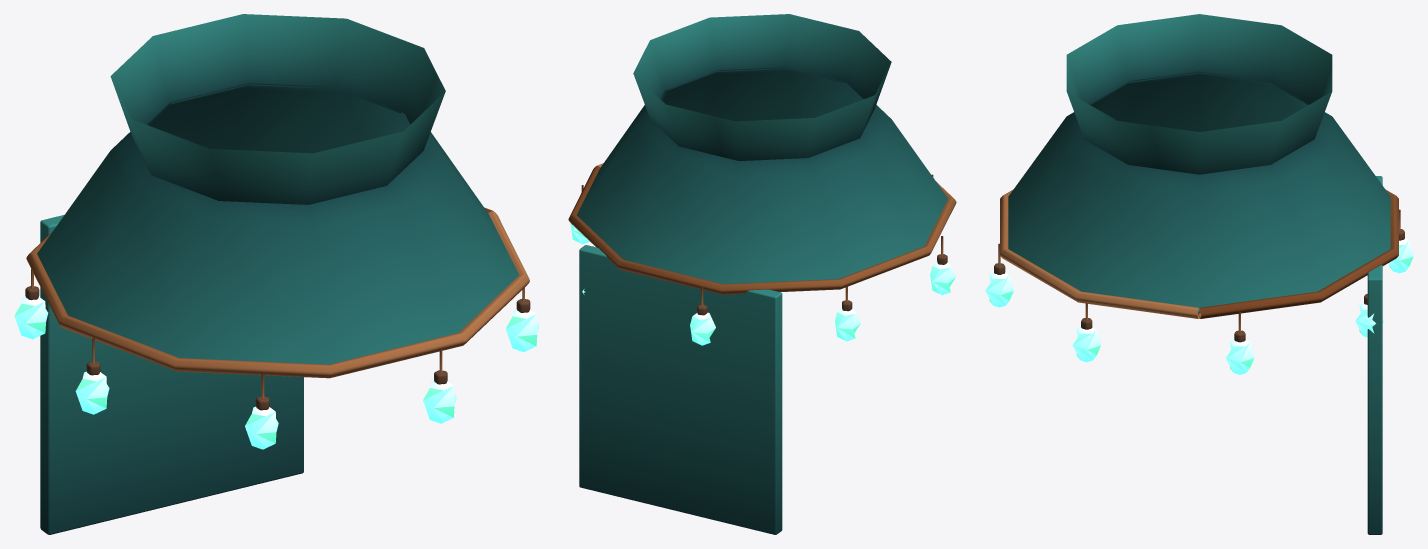
Rendered from lg_wisplight_robe.glb.
The picture shows the model from 3 angles, left to right: view 1: azimuth 30°, elevation 25°; view 2: azimuth 150°, elevation 25°; view 3: azimuth 270°, elevation 25°; orthographic projection. The views are drawn at different scales.
Visible parts, largest first — view 1: lg_wisplight_robe, lg_wisplight_robe_glow; view 2: lg_wisplight_robe, lg_wisplight_robe_glow; view 3: lg_wisplight_robe, lg_wisplight_robe_glow.
Part boxes in pixels (x1,y1,x2,y2): lg_wisplight_robe: [25, 14, 530, 534]; lg_wisplight_robe_glow: [14, 296, 539, 449]; lg_wisplight_robe: [568, 14, 956, 534]; lg_wisplight_robe_glow: [570, 223, 955, 345]; lg_wisplight_robe: [994, 14, 1404, 534]; lg_wisplight_robe_glow: [985, 238, 1413, 374].
Size of the model in its own units: 2.26 by 2.4 by 2.27.
